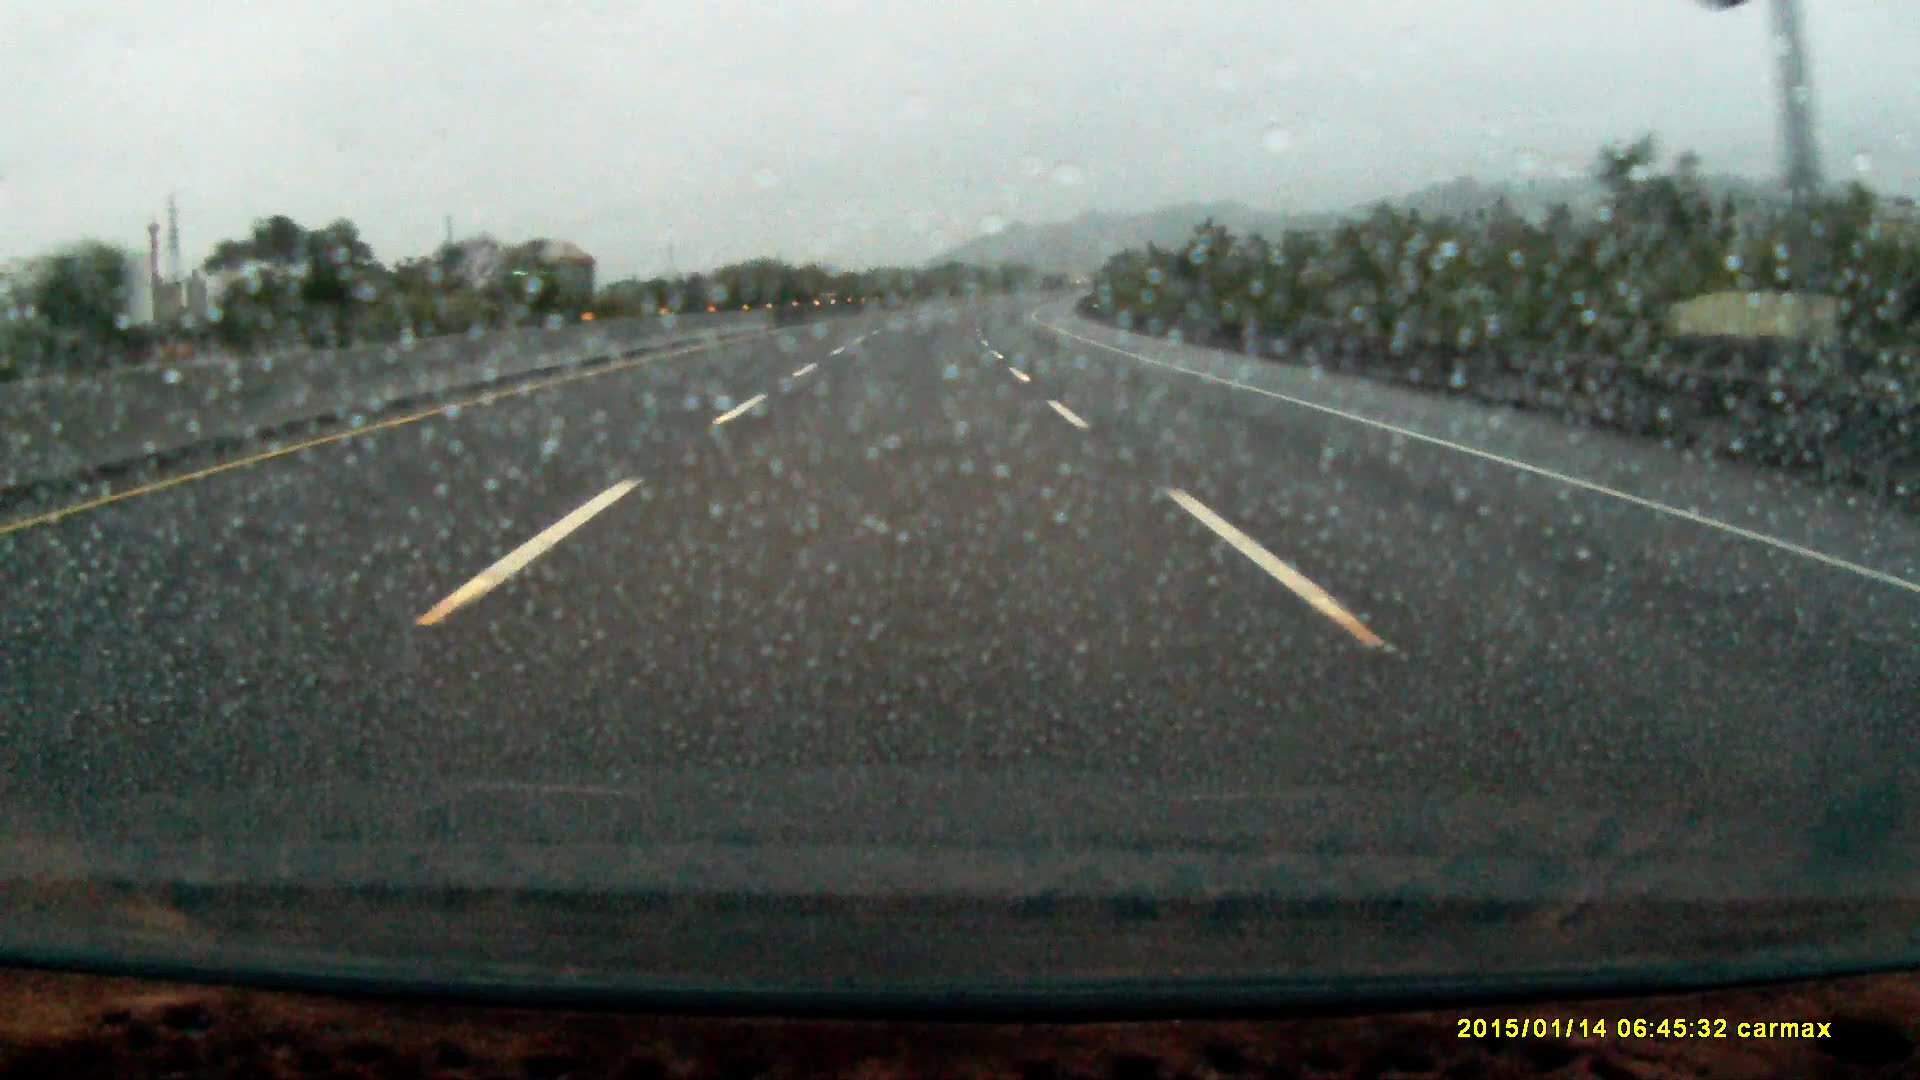vehicle: (491, 233, 599, 322)
